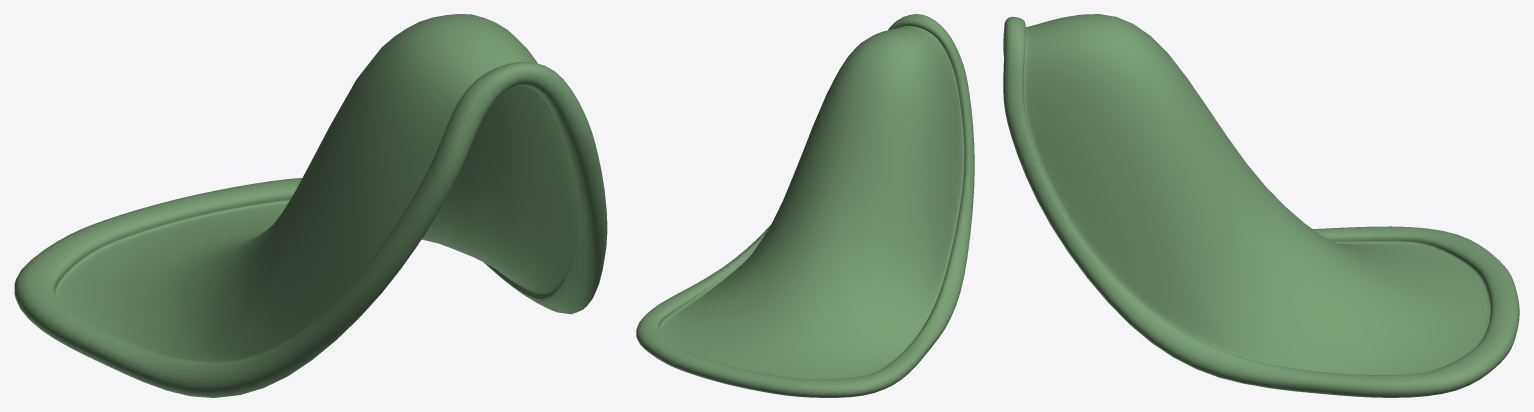
The model's file is dress_lower.obj.
3 views of the same model, side by side, from view 1: azimuth 30°, elevation 25°; view 2: azimuth 150°, elevation 25°; view 3: azimuth 270°, elevation 25° (orthographic). The views are drawn at different scales.
Visible parts, largest first — view 1: princess_platinum_body0_model0; view 2: princess_platinum_body0_model0; view 3: princess_platinum_body0_model0.
Boxes of the visible parts, bbox=[...] form: princess_platinum_body0_model0: bbox=[14, 14, 607, 397]; princess_platinum_body0_model0: bbox=[636, 14, 974, 397]; princess_platinum_body0_model0: bbox=[1003, 14, 1519, 397].
Bounding box in the file's own units: 35.88 × 31.24 × 48.52.
